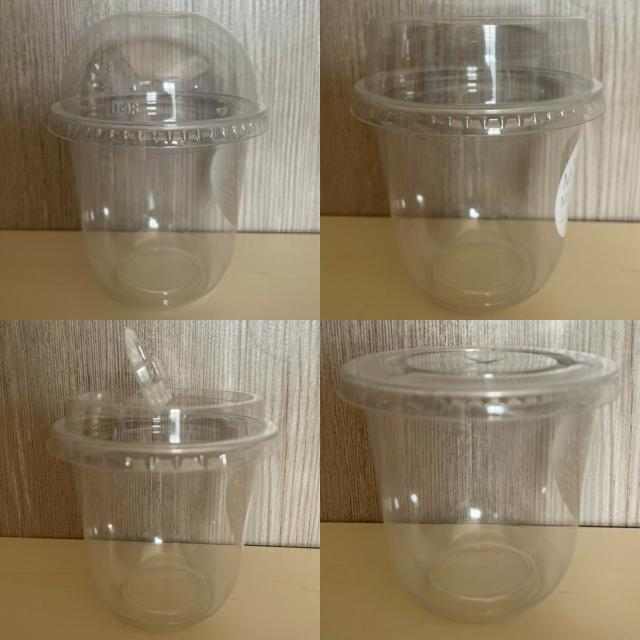Single-Use-Plastic: (339, 348, 620, 622), (351, 18, 604, 310), (48, 330, 279, 629), (49, 12, 268, 308)
